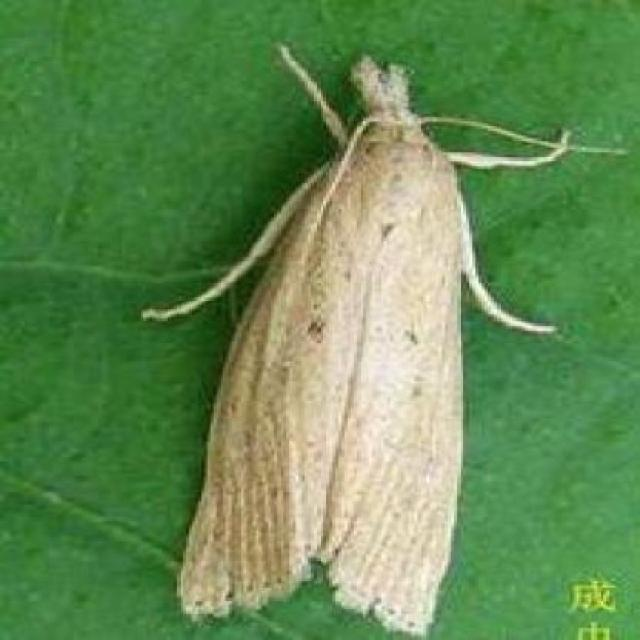stem-borer: (142, 37, 558, 640)
